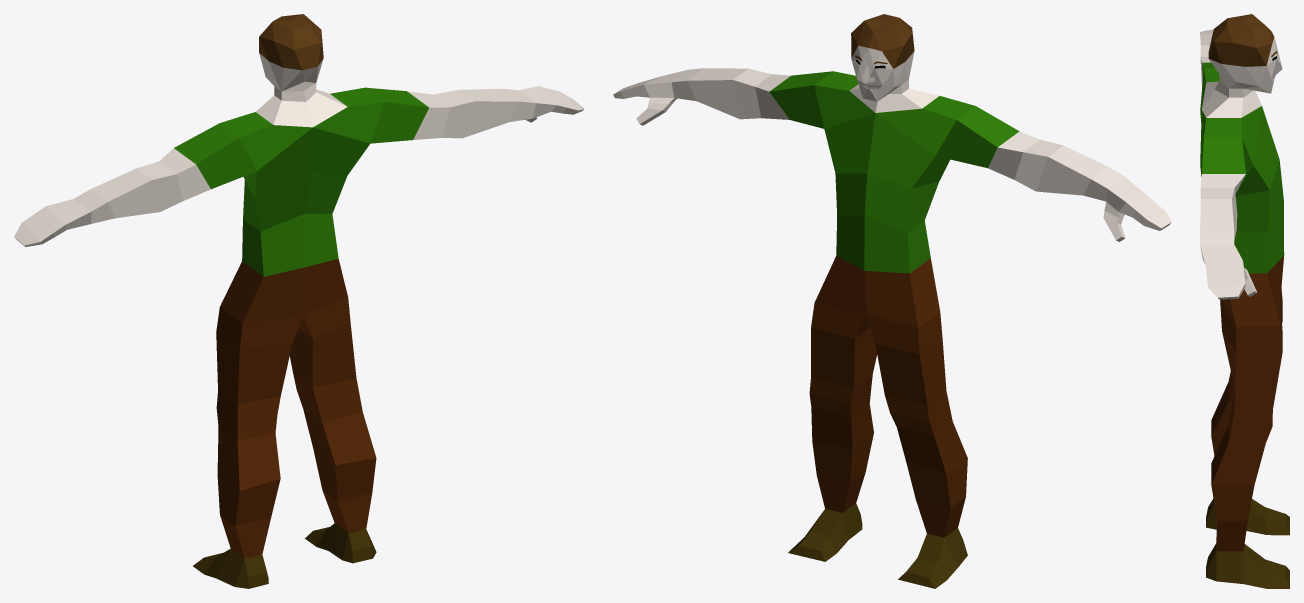
Rendered from Human.fbx.
The picture shows the model from 3 angles, left to right: view 1: azimuth 30°, elevation 25°; view 2: azimuth 150°, elevation 25°; view 3: azimuth 270°, elevation 25°; orthographic projection. The views are drawn at different scales.
Visible parts, largest first — view 1: Person; view 2: Person; view 3: Person.
Part boxes in pixels (<box>): Person: <box>14,14,584,588</box>; Person: <box>613,14,1171,588</box>; Person: <box>1200,14,1289,588</box>.
Bounding box in the file's own units: 1189 × 169 × 1105.
